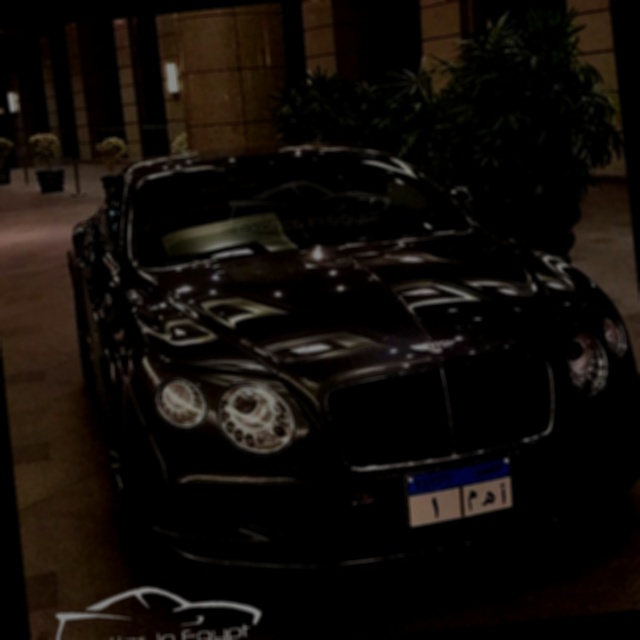License Plate: (398, 454, 520, 531)
